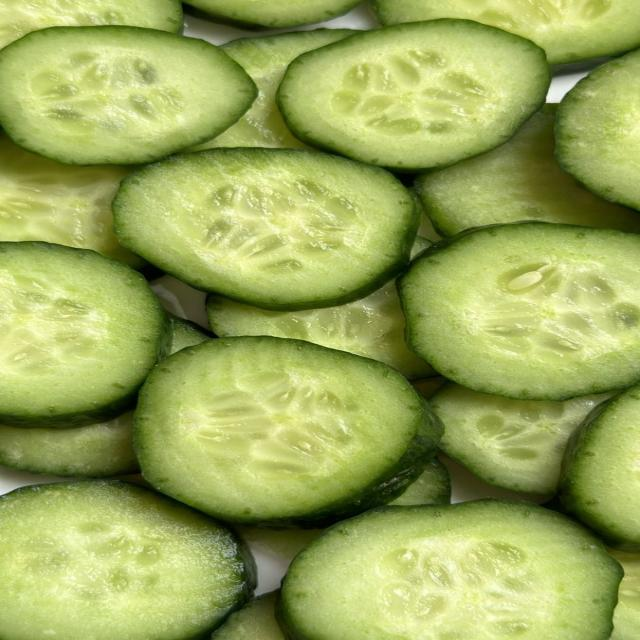cucumber sliced: (135, 337, 438, 526), (113, 148, 418, 310), (280, 500, 621, 639), (400, 222, 639, 400), (278, 20, 549, 171), (0, 482, 251, 639), (0, 27, 256, 164), (0, 243, 165, 427), (416, 104, 639, 235), (207, 280, 434, 379), (430, 383, 608, 494), (0, 133, 145, 268), (196, 29, 356, 149), (556, 4, 640, 209), (373, 0, 639, 64), (561, 386, 639, 552), (0, 412, 139, 477), (0, 0, 182, 47), (187, 0, 361, 28), (211, 592, 284, 639), (388, 459, 451, 505), (609, 550, 639, 639), (167, 314, 213, 354)
